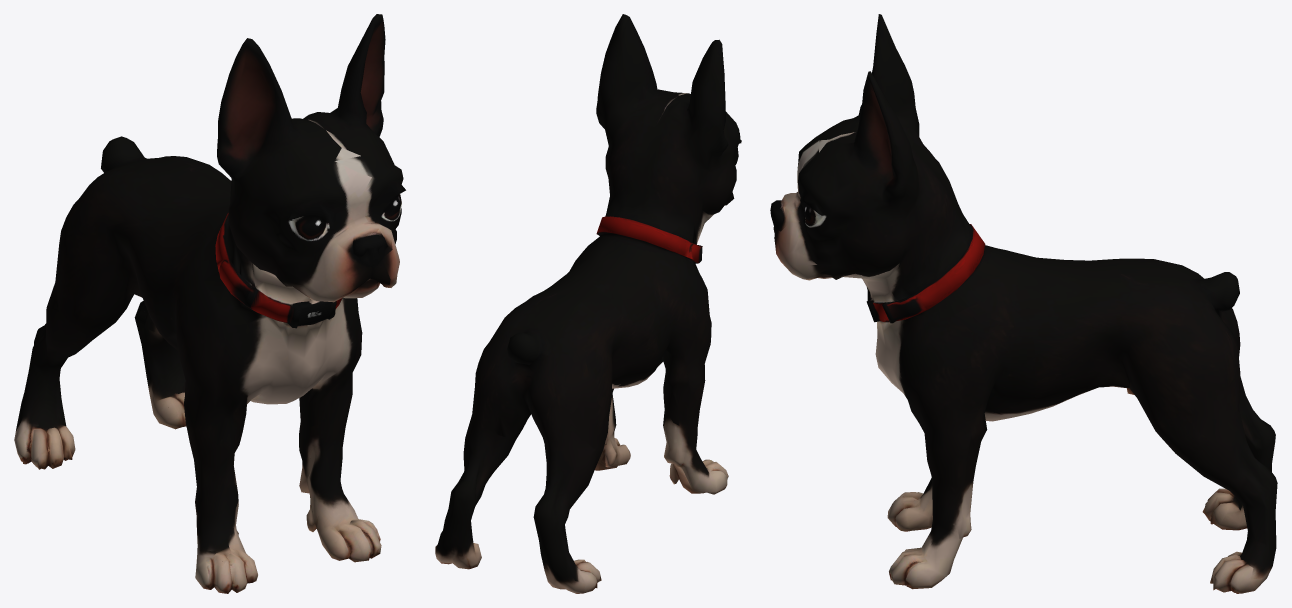
The model's file is Perro.fbx.
3 renders of one model, left to right at view 1: azimuth 30°, elevation 25°; view 2: azimuth 150°, elevation 25°; view 3: azimuth 270°, elevation 25°, orthographic. The views are drawn at different scales.
Visible parts, largest first — view 1: PERRO_TEXTURA; view 2: PERRO_TEXTURA; view 3: PERRO_TEXTURA.
Part boxes in pixels (x1=…): PERRO_TEXTURA: x1=14, y1=14, x2=405, y2=593; PERRO_TEXTURA: x1=435, y1=14, x2=741, y2=593; PERRO_TEXTURA: x1=770, y1=14, x2=1277, y2=593.
Bounding box in the file's own units: 18.53 × 50.13 × 45.03.
1 material, 1 textured.
